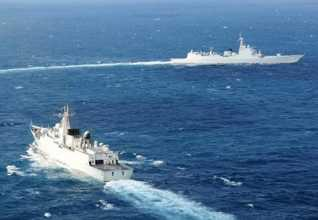warship: (21, 103, 135, 179), (163, 35, 307, 66)
